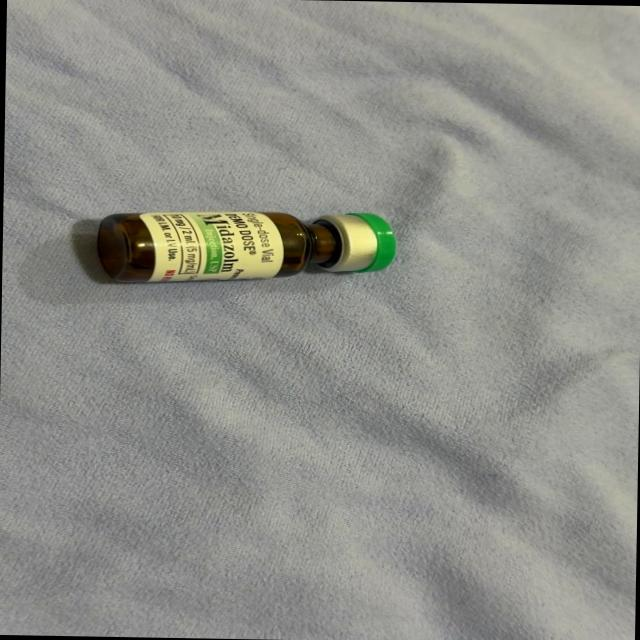midazolm: (100, 208, 390, 286)
